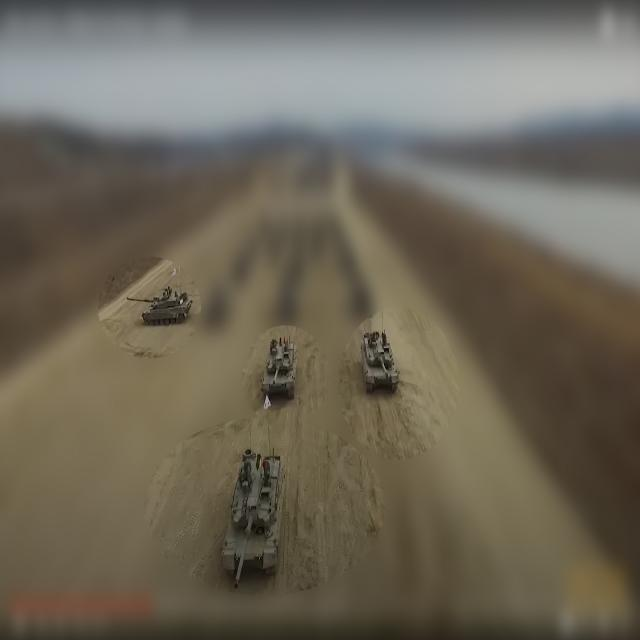tank: (220, 445, 287, 590), (124, 292, 198, 332), (360, 328, 401, 399), (260, 332, 301, 402)
